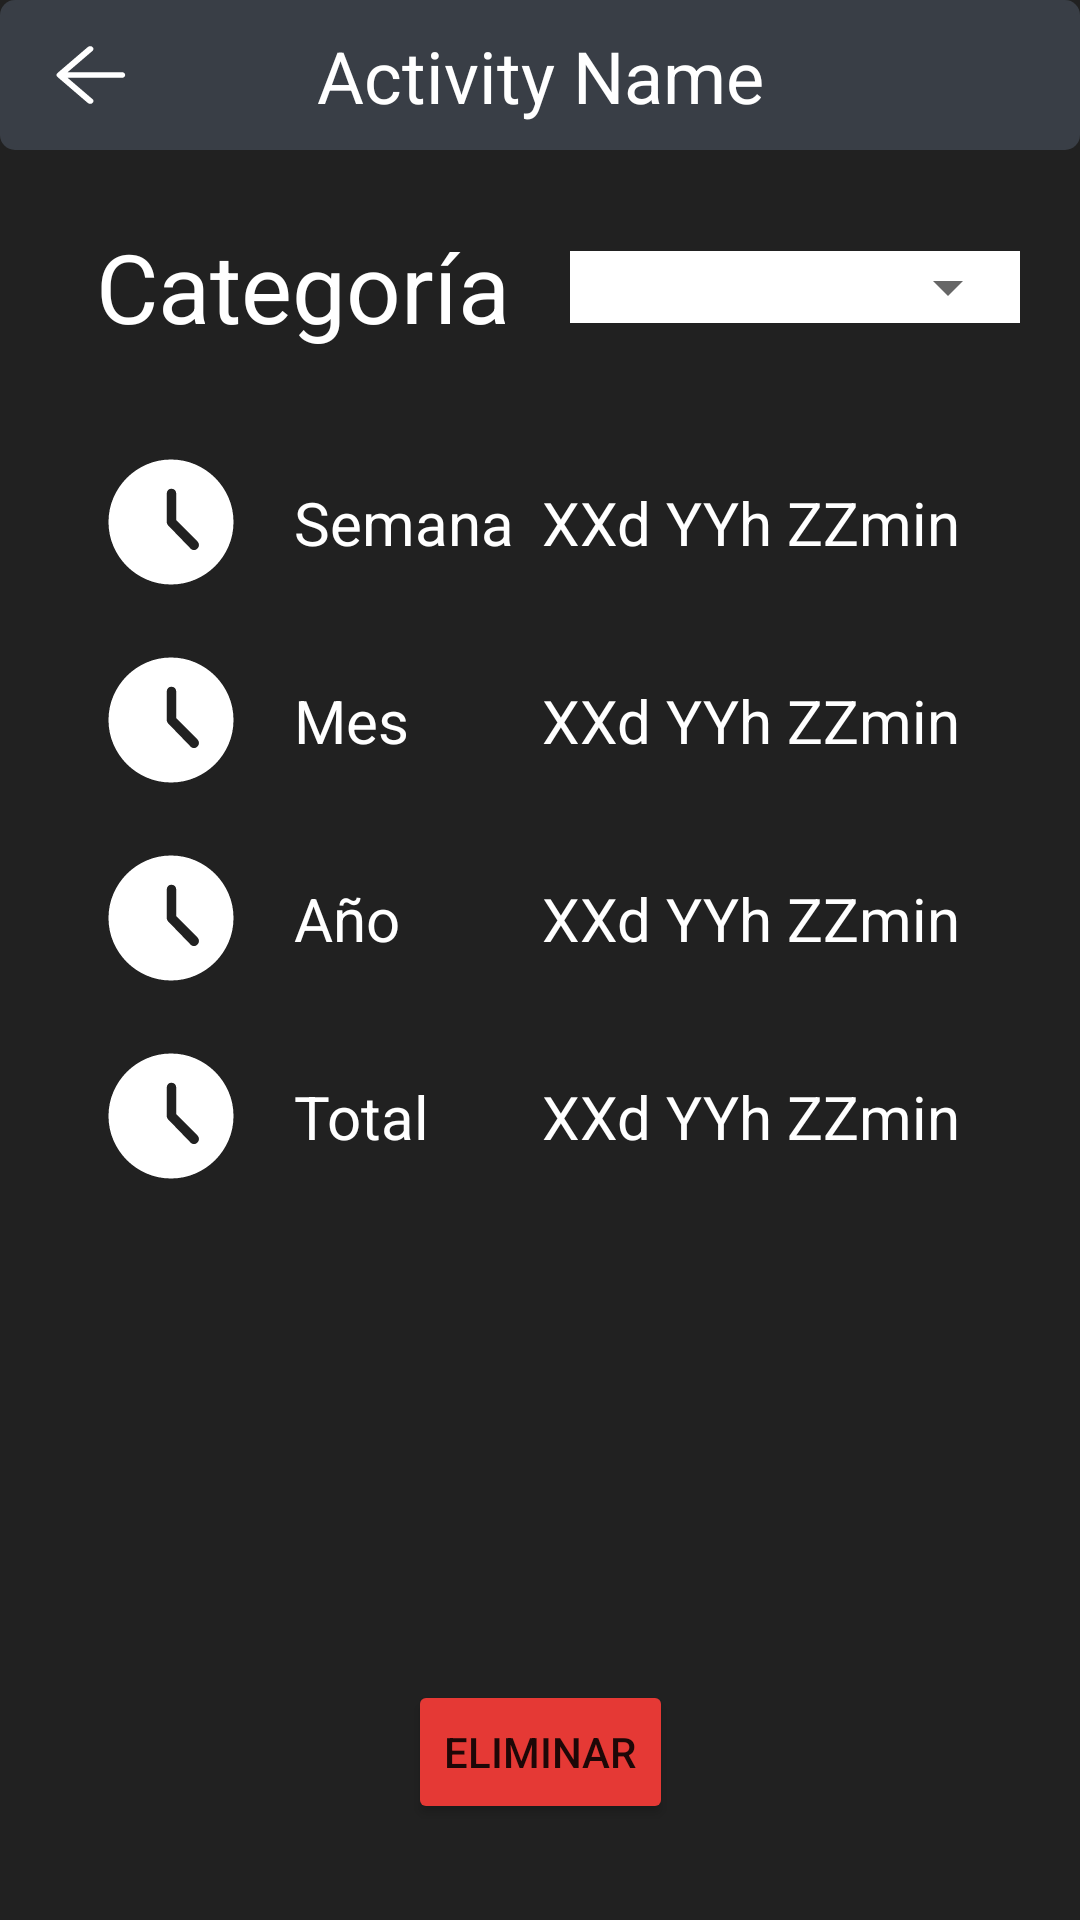

Point at icon controls on the screen. Image size 1080x1920, points as point (x, y).
arrow back: point (90, 75)
clock: point (171, 522), point (171, 720), point (171, 918), point (171, 1116)
